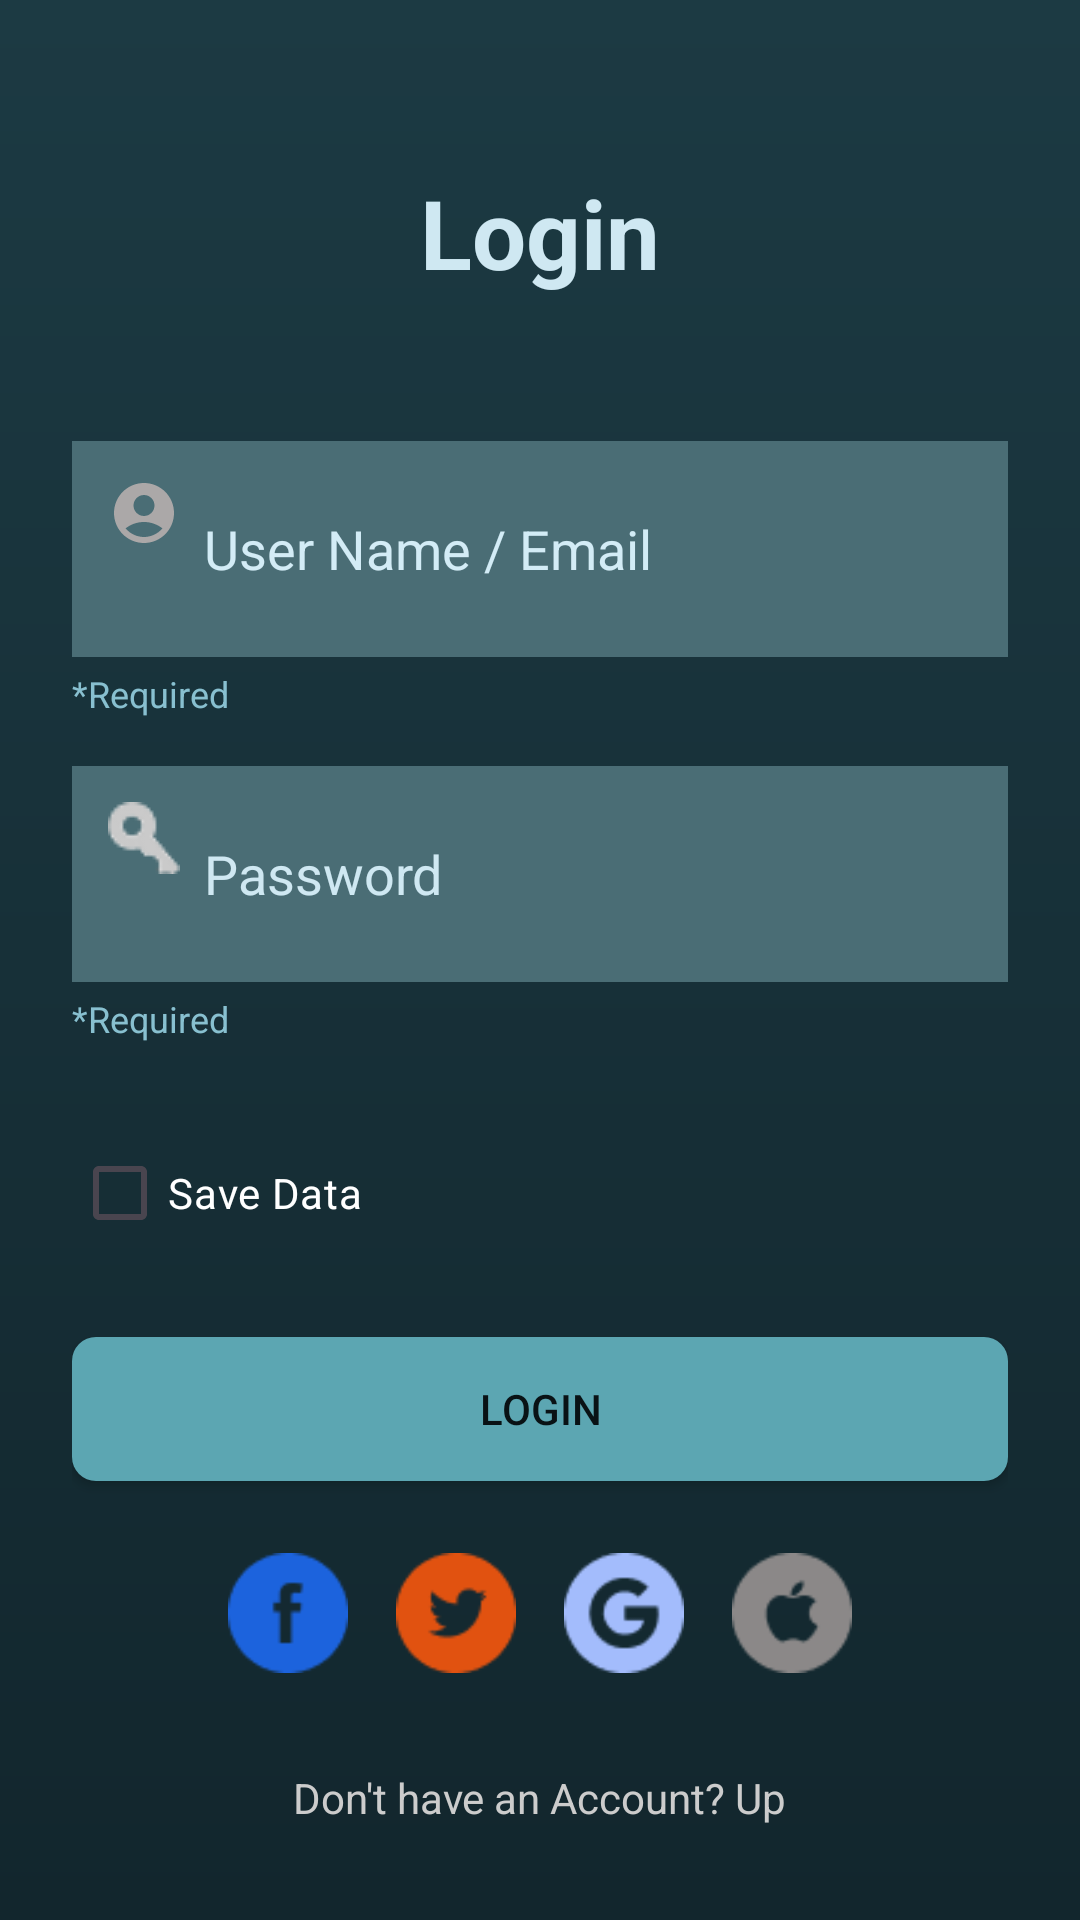

Icon bounding boxes for this 1080*1920 phone screenshot, format (x1, y1, x2, y2):
profile: (114, 483, 174, 543)
